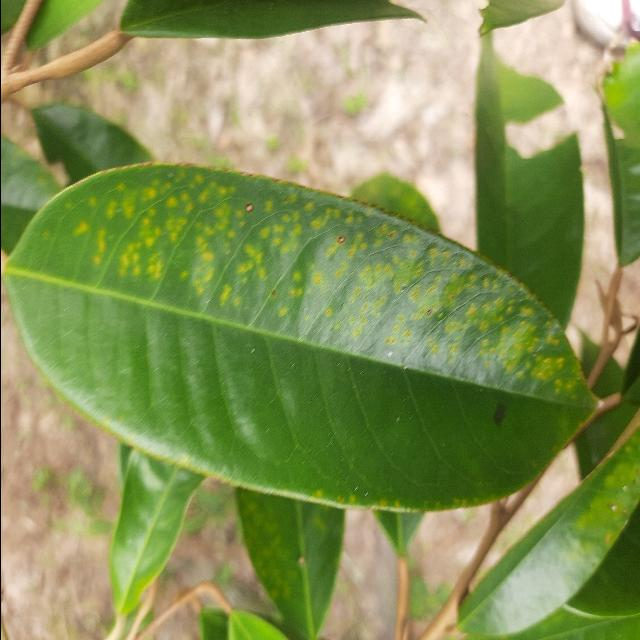Leaf Spot: (0, 147, 607, 529)
